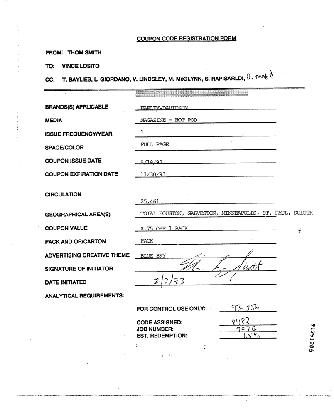textline: (134, 105, 277, 111), (134, 118, 277, 124), (134, 132, 277, 138), (134, 159, 277, 165), (134, 172, 277, 178), (134, 199, 277, 205), (134, 226, 277, 232), (134, 253, 277, 259), (134, 267, 277, 273), (134, 280, 277, 286), (134, 146, 277, 151), (134, 213, 277, 218), (134, 240, 277, 245), (219, 306, 277, 312), (219, 320, 277, 326), (219, 327, 277, 333), (219, 333, 277, 339)
